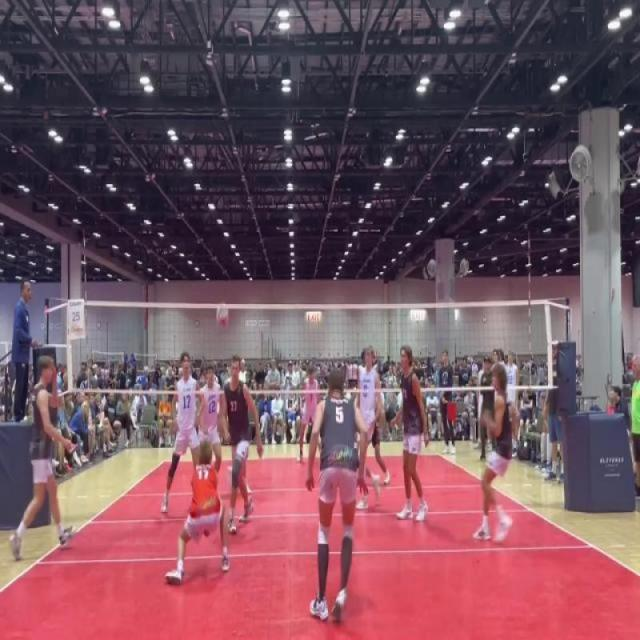volleyball: (214, 302, 230, 330)
